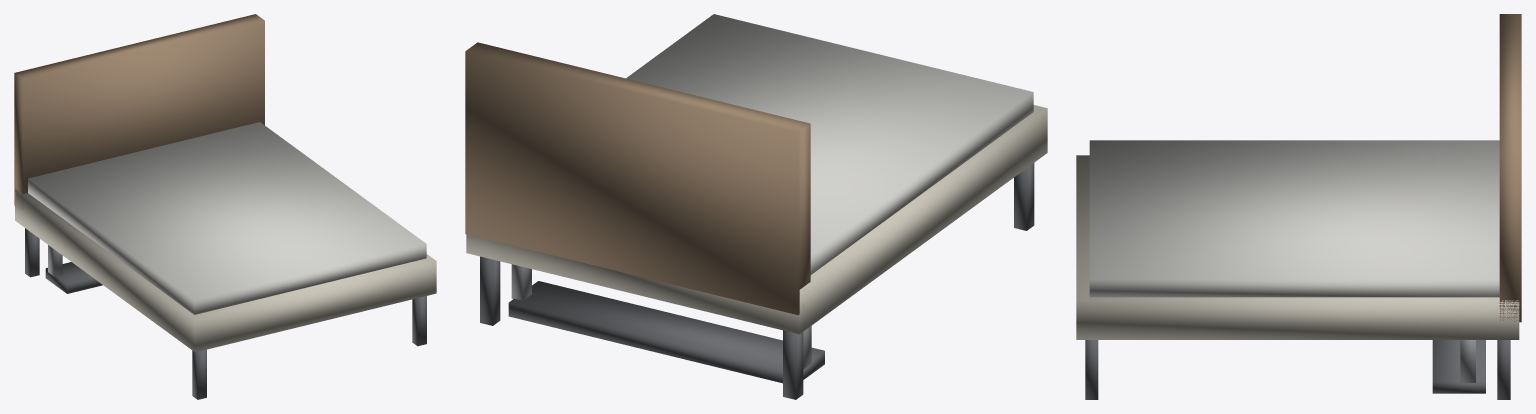
Rendered from double_bed__reinforced.glb.
The picture shows the model from 3 angles, left to right: view 1: azimuth 30°, elevation 25°; view 2: azimuth 150°, elevation 25°; view 3: azimuth 270°, elevation 25°; orthographic projection. The views are drawn at different scales.
Visible parts, largest first — view 1: world; view 2: world; view 3: world.
Part boxes in pixels (x1,y1,x2,y2): world: (14,14,436,399); world: (465,14,1047,399); world: (1076,14,1521,399).
Bounding box in the file's own units: 1.6 × 1.25 × 2.07.
